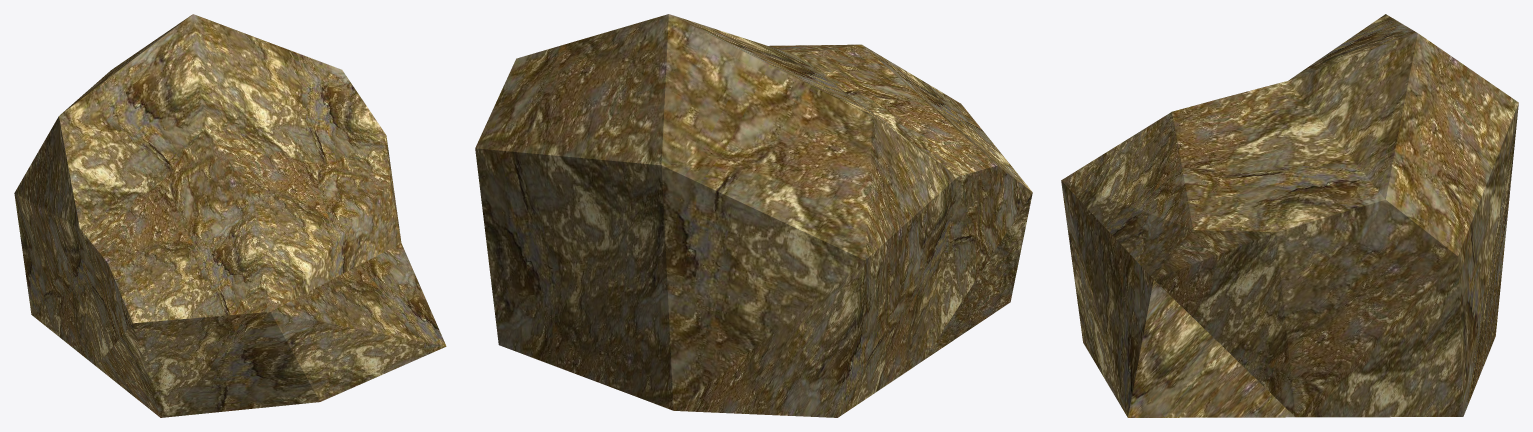
File: nugget_g_h.dae
3 views of the same model, side by side, from view 1: azimuth 30°, elevation 25°; view 2: azimuth 150°, elevation 25°; view 3: azimuth 270°, elevation 25° (orthographic). The views are drawn at different scales.
Visible parts, largest first — view 1: S_nugget_g_h; view 2: S_nugget_g_h; view 3: S_nugget_g_h.
Part boxes in pixels (x1=…): S_nugget_g_h: x1=14, y1=14, x2=446, y2=417; S_nugget_g_h: x1=475, y1=14, x2=1032, y2=417; S_nugget_g_h: x1=1061, y1=14, x2=1518, y2=417.
Bounding box in the file's own units: 0.767 × 0.6628 × 0.848.
